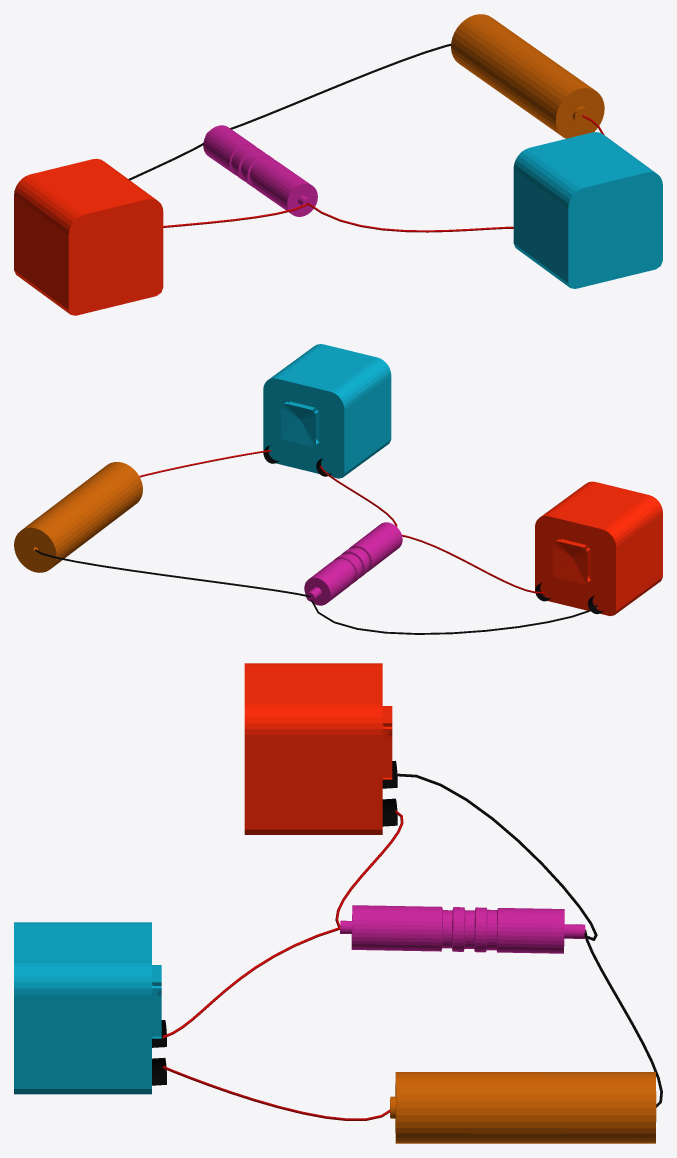
The model's file is circuit.obj.
The picture shows the model from 3 angles, top to bottom: view 1: azimuth 30°, elevation 25°; view 2: azimuth 150°, elevation 25°; view 3: azimuth 270°, elevation 25°; orthographic projection. The views are drawn at different scales.
Visible parts, largest first — view 1: Battery, Battery_Negative_to_Resistor, Resistor_to_Ammeter; view 2: Battery, Voltmeter_to_resistor, Battery_Negative_to_Resistor; view 3: Battery, Voltmeter_to_resistor, Batter_Positive_to_Ammeter, Resistor_to_Ammeter.
Boxes of the visible parts, <box> form: Battery: <box>14,14,662,315</box>; Battery_Negative_to_Resistor: <box>230,43,450,129</box>; Resistor_to_Ammeter: <box>306,202,513,232</box>; Battery: <box>14,344,662,615</box>; Voltmeter_to_resistor: <box>311,600,597,634</box>; Battery_Negative_to_Resistor: <box>34,549,311,597</box>; Battery: <box>14,663,656,1143</box>; Voltmeter_to_resistor: <box>394,773,597,940</box>; Batter_Positive_to_Ammeter: <box>162,1066,390,1120</box>; Resistor_to_Ammeter: <box>162,927,340,1038</box>.
Size of the model in its own units: 20.07 by 3.45 by 14.99.
